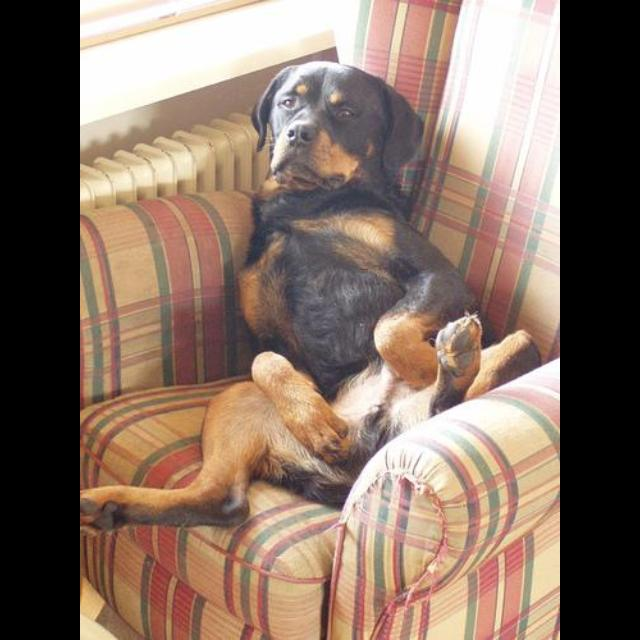rottweiler: (81, 61, 541, 534)
